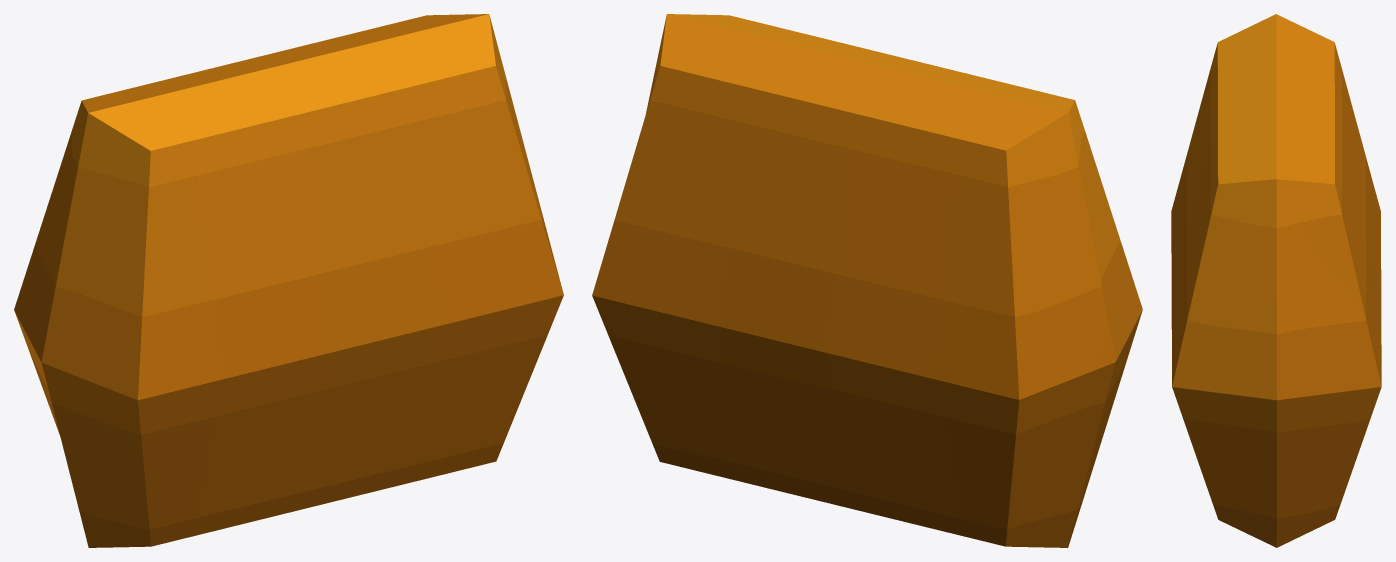
File: Pillow2.fbx
The picture shows the model from 3 angles, left to right: view 1: azimuth 30°, elevation 25°; view 2: azimuth 150°, elevation 25°; view 3: azimuth 270°, elevation 25°; orthographic projection. The views are drawn at different scales.
Parts seen in each view (by area): view 1: Pillow_v2; view 2: Pillow_v2; view 3: Pillow_v2.
Boxes of the visible parts, bbox=[...] form: Pillow_v2: bbox=[14, 14, 563, 547]; Pillow_v2: bbox=[592, 14, 1142, 547]; Pillow_v2: bbox=[1171, 14, 1381, 547].
Bounding box in the file's own units: 71.74 × 60.32 × 31.15.
